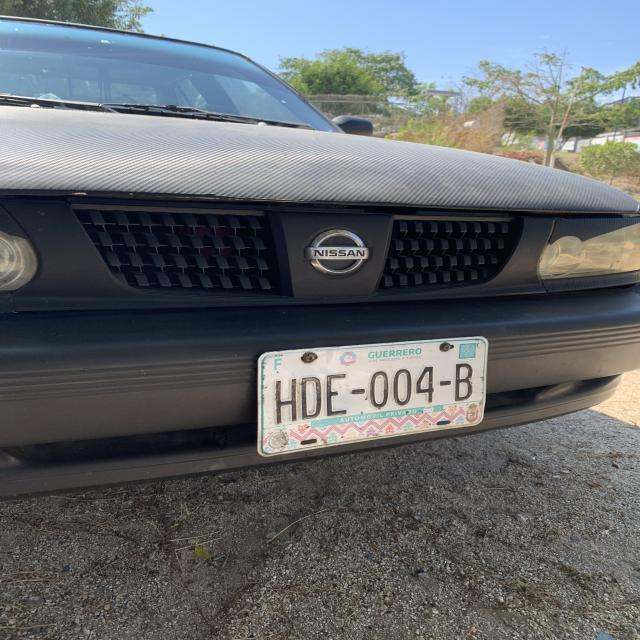placa: (257, 361, 494, 424)
